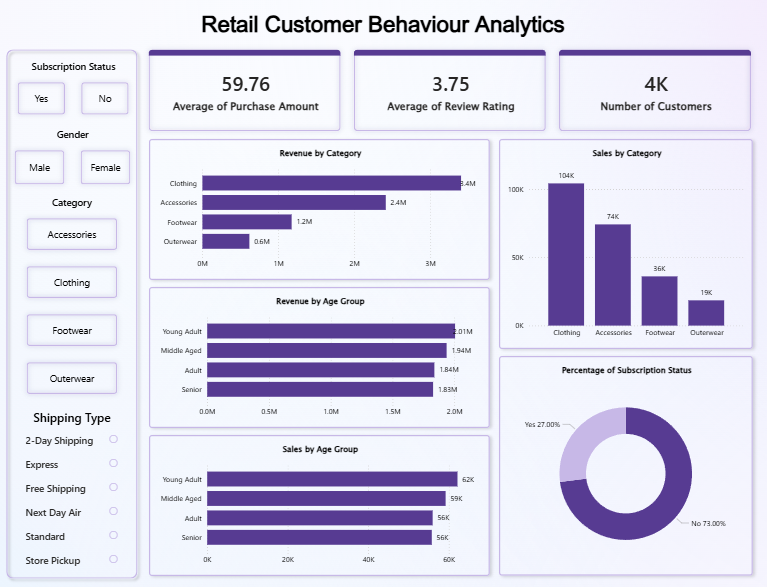

Layout of this report page (visuals, bound fields, positions):
{"tool":"powerbi","page":{"name":"Page 1","canvas":[1280,980],"ordinal":0},"visuals":[{"type":"cardVisual","fields":{"Data":["customer_behavior customer.Average of Purchase Amount","customer_behavior customer.Average of Review Rating","customer_behavior customer.Number of Customers"]},"box":[238.8,73.8,1028.8,158.8],"z":0},{"type":"shape","box":[3.8,75,236.2,900],"z":500},{"type":"textbox","box":[320,10,640,64],"z":1000},{"type":"donutChart","title":"Percentage of Subscription Status","fields":{"Category":["customer_behavior customer.subscription_status"],"Y":["Sum(customer_behavior customer.customer_id)"]},"box":[833,595.5,422.5,366.2],"z":2000},{"type":"columnChart","title":"Sales by Category","fields":{"Category":["customer_behavior customer.category"],"Y":["Sum(customer_behavior customer.purchase_amount)"]},"box":[832.7,233.6,423,350],"z":3000},{"type":"barChart","title":"Revenue by Category","fields":{"Category":["customer_behavior customer.category"],"Y":["Sum(customer_behavior customer.customer_id)"]},"box":[250.2,233.6,567.7,235],"z":4000},{"type":"advancedSlicerVisual","title":"Subscription Status","fields":{"Values":["customer_behavior customer.subscription_status"]},"box":[14.8,101.7,218.2,107.2],"z":5000},{"type":"advancedSlicerVisual","title":"Gender","fields":{"Values":["customer_behavior customer.gender"]},"box":[10,215,225.6,110.9],"z":6000},{"type":"listSlicer","title":"Shipping Type","fields":{"Values":["customer_behavior customer.shipping_type"]},"box":[38.8,683.5,166.4,279.2],"z":7000},{"type":"advancedSlicerVisual","title":"Category","fields":{"Values":["customer_behavior customer.category"]},"box":[29.6,329.1,183.1,349.5],"z":8000},{"type":"barChart","title":"Sales by Age Group","fields":{"Category":["customer_behavior customer.age_group"],"Y":["Sum(customer_behavior customer.purchase_amount)"]},"box":[250.5,726.8,567.5,235],"z":9000},{"type":"barChart","title":"Revenue by Age Group ","fields":{"Y":["Sum(customer_behavior customer.customer_id)"],"Category":["customer_behavior customer.age_group"]},"box":[250.5,480.5,567.5,235],"z":10000}]}

Visuals, with their boxes in screenshot pixels (x1, y1, x2, y2), scaled from the page's 1280x980 canvas onto the 767x587 screenshot:
cardVisual - customer_behavior customer.Average of Purchase Amount x customer_behavior customer.Average of Review Rating: bbox=[143, 44, 760, 139]
shape: bbox=[2, 45, 144, 584]
textbox: bbox=[192, 6, 575, 44]
"Percentage of Subscription Status" donutChart: bbox=[499, 357, 752, 576]
"Sales by Category" columnChart: bbox=[499, 140, 752, 350]
"Revenue by Category" barChart: bbox=[150, 140, 490, 281]
"Subscription Status" advancedSlicerVisual: bbox=[9, 61, 140, 125]
"Gender" advancedSlicerVisual: bbox=[6, 129, 141, 195]
"Shipping Type" listSlicer: bbox=[23, 409, 123, 577]
"Category" advancedSlicerVisual: bbox=[18, 197, 127, 406]
"Sales by Age Group" barChart: bbox=[150, 435, 490, 576]
"Revenue by Age Group " barChart: bbox=[150, 288, 490, 429]
